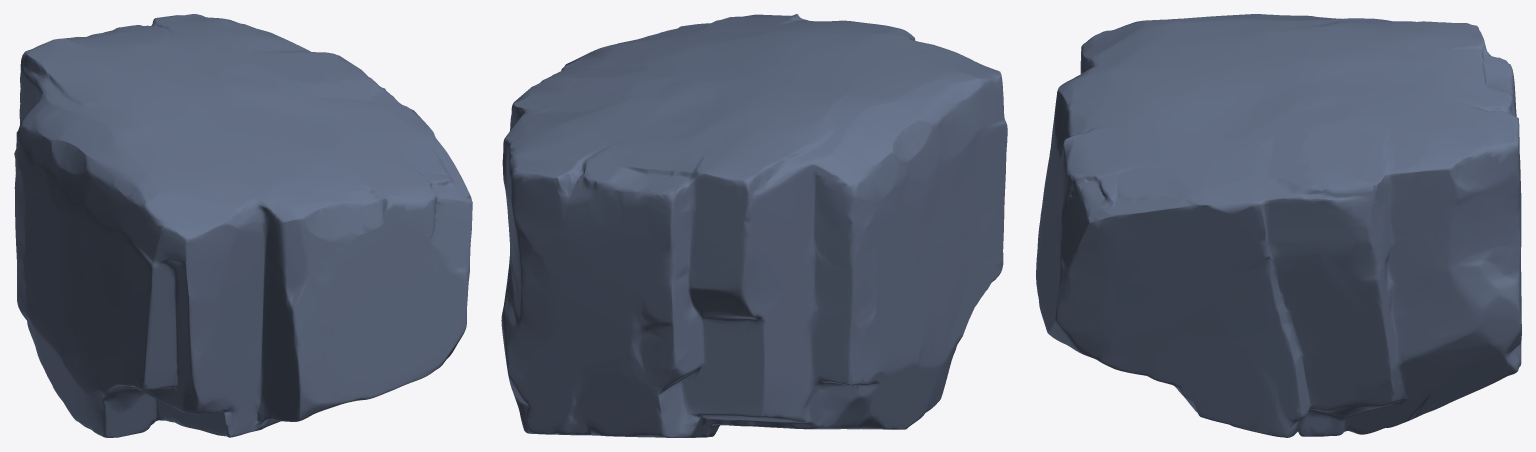
The picture shows the model from 3 angles, left to right: view 1: azimuth 30°, elevation 25°; view 2: azimuth 150°, elevation 25°; view 3: azimuth 270°, elevation 25°; orthographic projection. The views are drawn at different scales.
Visible parts, largest first — view 1: SM_GF_Cliff_Top_01_LOD0; view 2: SM_GF_Cliff_Top_01_LOD0; view 3: SM_GF_Cliff_Top_01_LOD0.
Boxes of the visible parts, x1,y1,x2,y2 form: SM_GF_Cliff_Top_01_LOD0: (14,14,472,437); SM_GF_Cliff_Top_01_LOD0: (501,14,1007,437); SM_GF_Cliff_Top_01_LOD0: (1036,14,1521,437).
Bounding box in the file's own units: 16.76 × 15.1 × 20.84.
